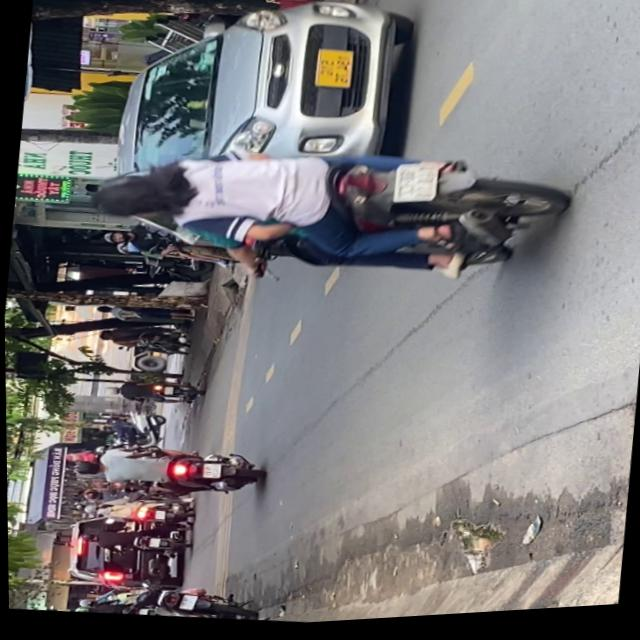helmet: (69, 458, 99, 477)
licenseplate: (75, 111, 572, 319), (65, 434, 263, 509)
motorcyclist: (87, 163, 185, 228)
nohelmet: (390, 164, 437, 210), (199, 464, 218, 480)
